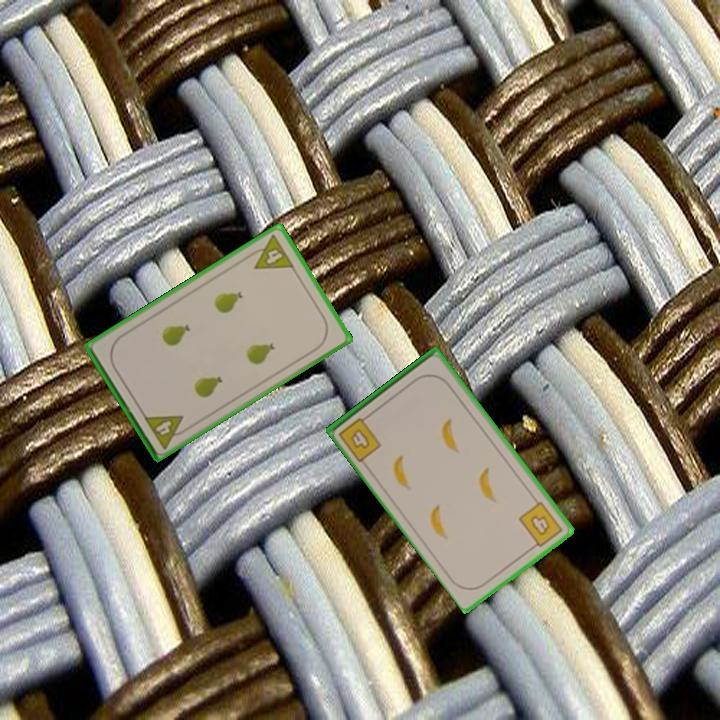4b: (515, 498, 566, 552), (335, 410, 385, 465)
4p: (244, 231, 297, 272), (140, 411, 192, 452)
